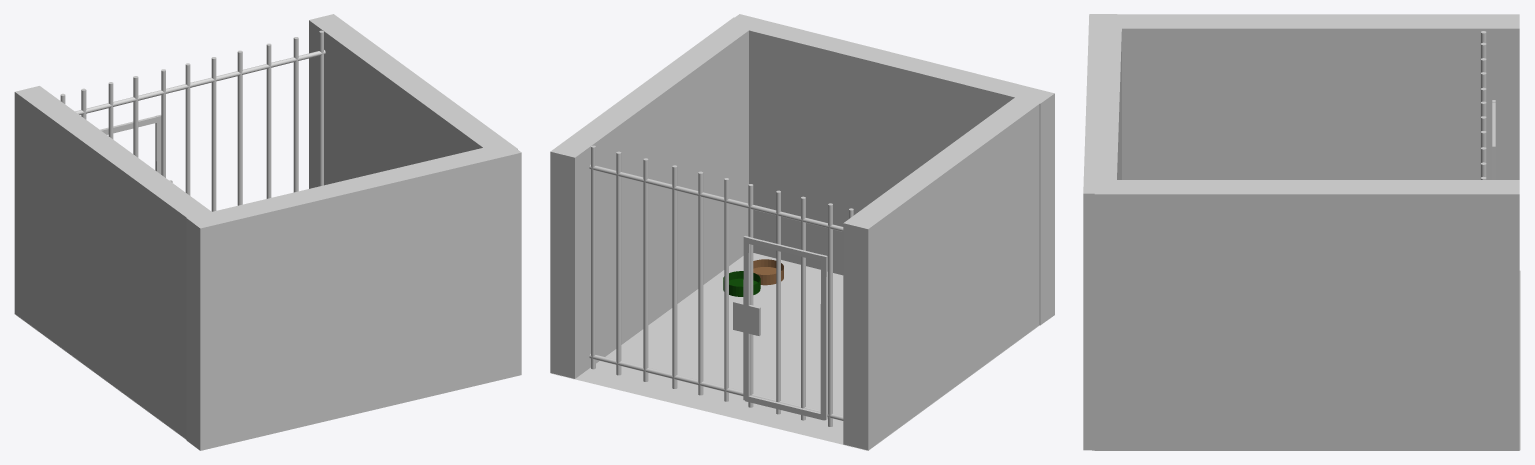
The model's file is Jail.fbx.
The picture shows the model from 3 angles, left to right: view 1: azimuth 30°, elevation 25°; view 2: azimuth 150°, elevation 25°; view 3: azimuth 270°, elevation 25°; orthographic projection. The views are drawn at different scales.
Visible parts, largest first — view 1: Cube.002, Cube.001, Cube, Cylinder.011, Cylinder.008, Cylinder.007, Cylinder.010, Cylinder.004, Cylinder.003, Cylinder.005, Cylinder; view 2: Cube.001, Cube, Cube.002, Plane, Cylinder.011, Cylinder.010, Cylinder.007, Cylinder.004, Cylinder.008, Cube.005, Cylinder.003, Cylinder.005 (+11 smaller); view 3: Cube, Cube.001, Cube.002.
Boxes of the visible parts, x1,y1,x2,y2 form: Cube.002: (186, 142, 521, 450); Cube.001: (14, 86, 223, 439); Cube: (309, 14, 517, 188); Cylinder.011: (75, 50, 325, 114); Cylinder.008: (266, 43, 271, 198); Cylinder.007: (237, 50, 242, 205); Cylinder.010: (293, 37, 298, 192); Cylinder.004: (211, 57, 216, 211); Cylinder.003: (185, 63, 190, 195); Cylinder.005: (319, 30, 323, 186); Cylinder: (161, 69, 165, 177); Cube.001: (843, 89, 1050, 450); Cube: (550, 17, 748, 378); Cube.002: (725, 14, 1054, 325); Plane: (550, 253, 1039, 450); Cylinder.011: (589, 164, 843, 231); Cylinder.010: (616, 151, 621, 375); Cylinder.007: (672, 165, 677, 388); Cylinder.004: (698, 171, 703, 395); Cylinder.008: (643, 158, 648, 381); Cube.005: (820, 254, 827, 420); Cylinder.003: (724, 178, 728, 401); Cylinder.005: (591, 145, 595, 369); Cube: (1094, 180, 1519, 450); Cube.001: (1094, 14, 1519, 179); Cube.002: (1083, 14, 1121, 450).
Bounding box in the file's own units: 1968 × 1311 × 2020.
Materials: 2 (2 with a texture image).
